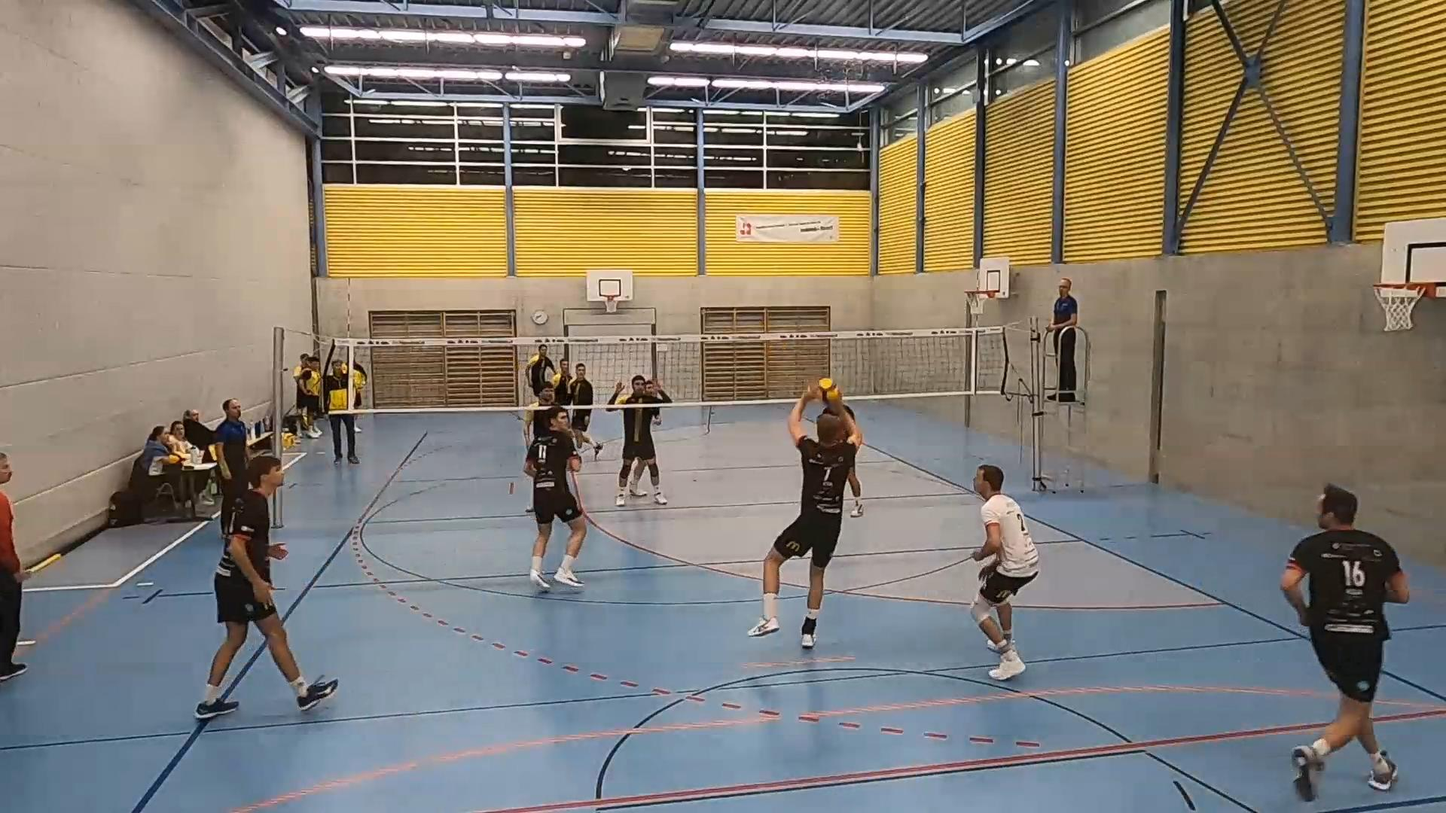Player: (1281, 486, 1409, 800), (195, 455, 337, 719), (971, 464, 1038, 680), (523, 406, 585, 589), (615, 407, 667, 507), (568, 364, 602, 460), (522, 385, 554, 447), (523, 385, 554, 444), (524, 344, 555, 396), (824, 402, 862, 443)
Receive: (768, 382, 869, 648)
ball: (814, 381, 844, 401)
